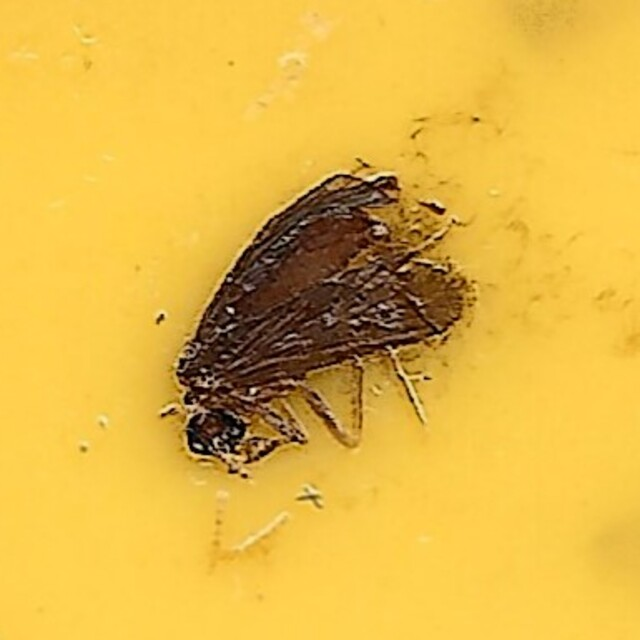Trichoptera: (166, 168, 474, 472)
